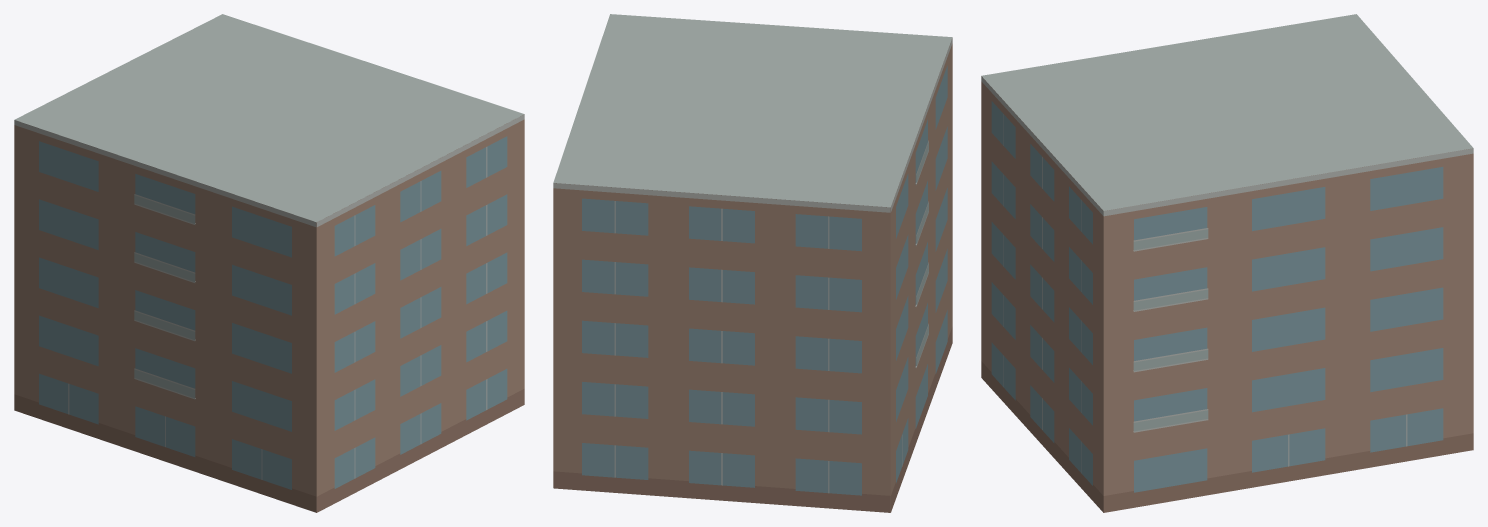
File: survey-upis-32772849.glb
3 views of the same model, side by side, from view 1: azimuth 30°, elevation 25°; view 2: azimuth 150°, elevation 25°; view 3: azimuth 270°, elevation 25° (orthographic). The views are drawn at different scales.
Parts seen in each view (by area): view 1: survey-upis-32772849.tmp; view 2: survey-upis-32772849.tmp; view 3: survey-upis-32772849.tmp.
Boxes of the visible parts, x1,y1,x2,y2 form: survey-upis-32772849.tmp: (14, 14, 524, 512); survey-upis-32772849.tmp: (553, 14, 952, 512); survey-upis-32772849.tmp: (981, 14, 1473, 512).
Bounding box in the file's own units: 19.33 × 13.8 × 20.41.
